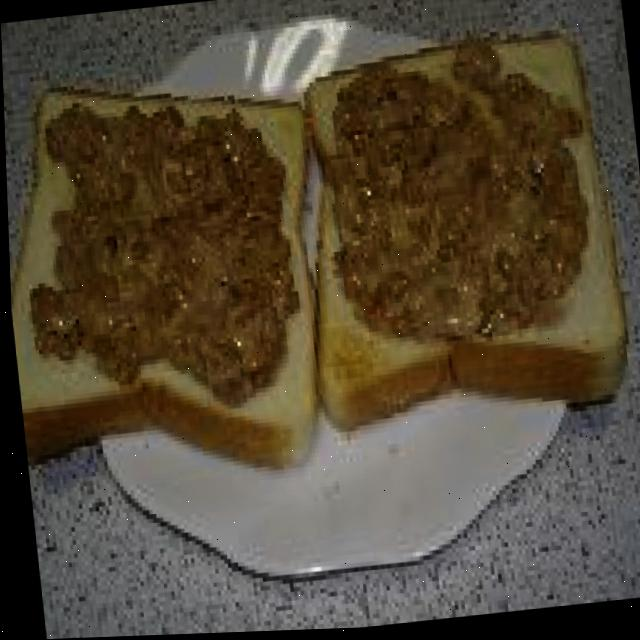面包点心: (1, 10, 640, 491)
